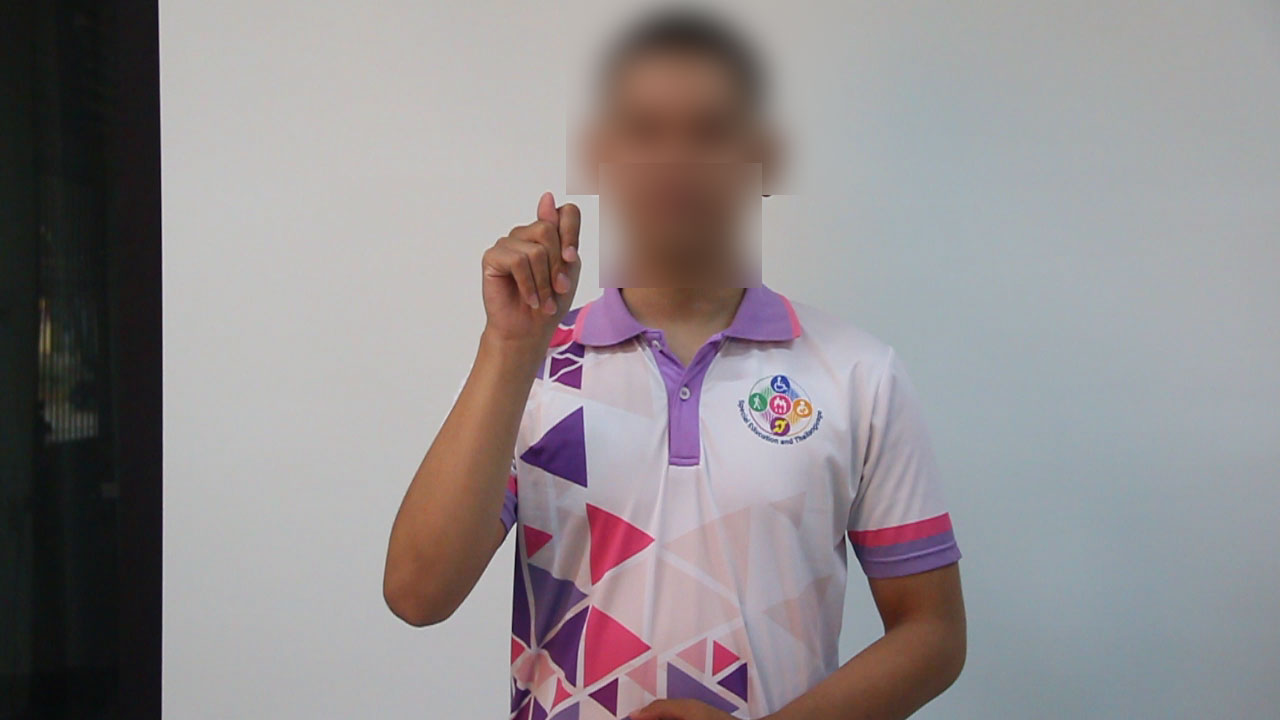tor: (467, 156, 612, 358)
